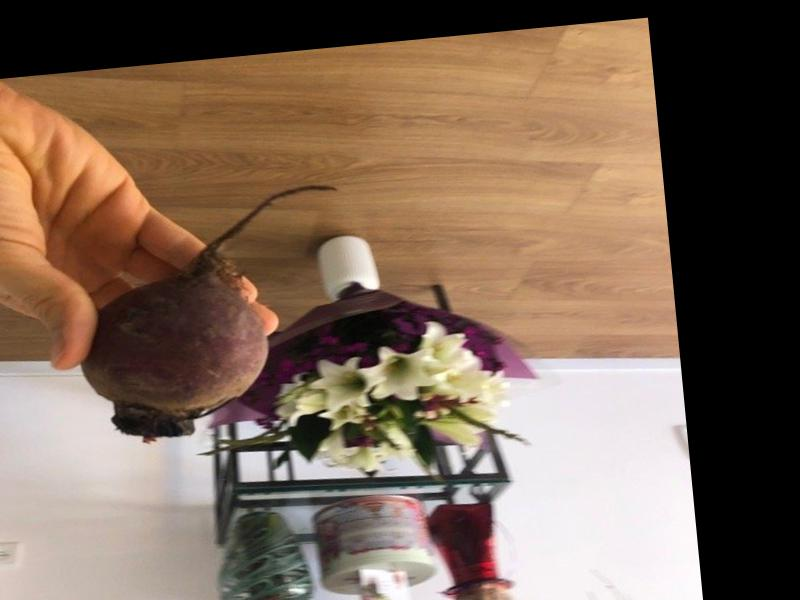Beet: (67, 183, 363, 446)
